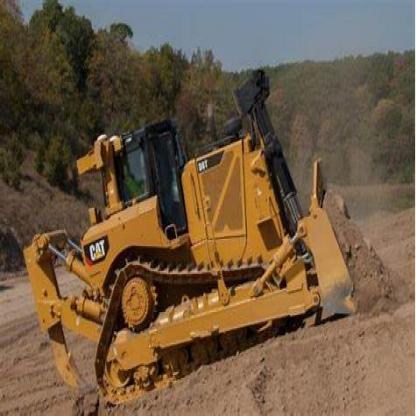bull_dozer/loader/grader: (22, 76, 372, 409)
